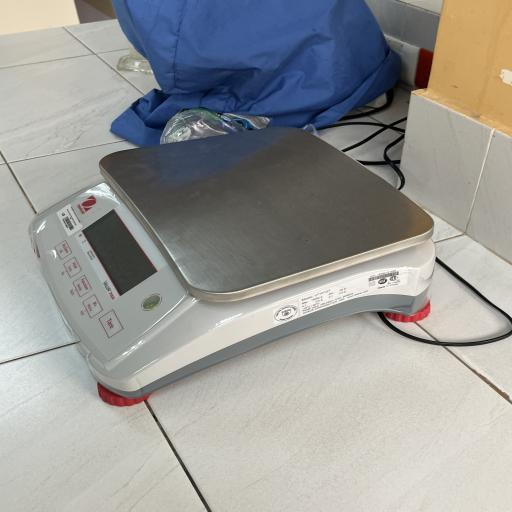Balanza_Granataria_Ohaus: (5, 123, 461, 418)
